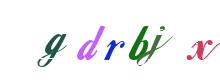B: (72, 0, 152, 80)
D: (69, 0, 149, 80)
G: (52, 0, 132, 80)
J: (84, 0, 164, 80)
R: (71, 0, 151, 80)
X: (139, 0, 219, 80)
